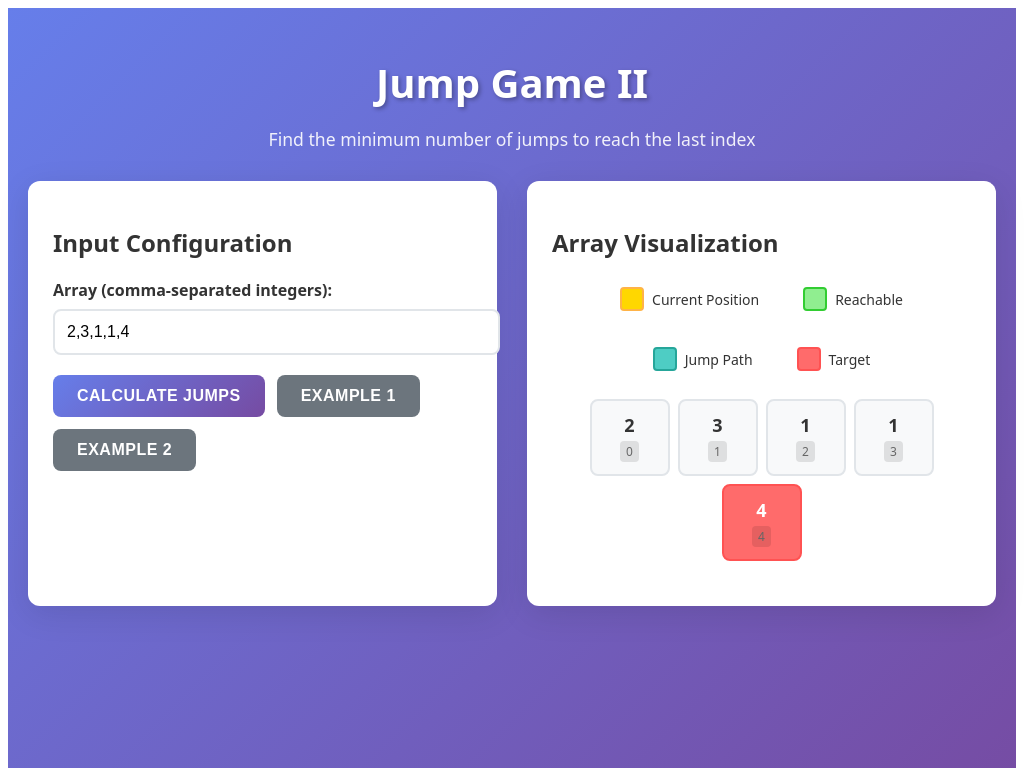
Test case: JumpGame Component › shows error for empty input
Clear the field with test id "array-input" at [276, 332], box [53,309,500,355]
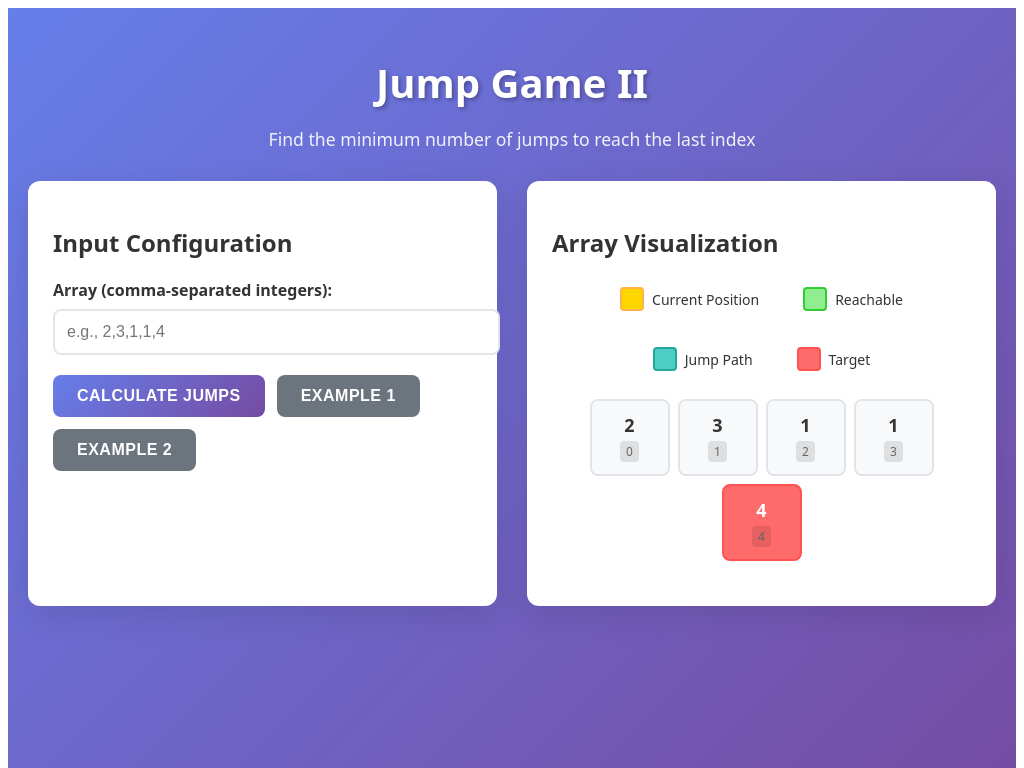
Click the button with test id "calculate-btn" at [159, 396], box [53,375,265,417]
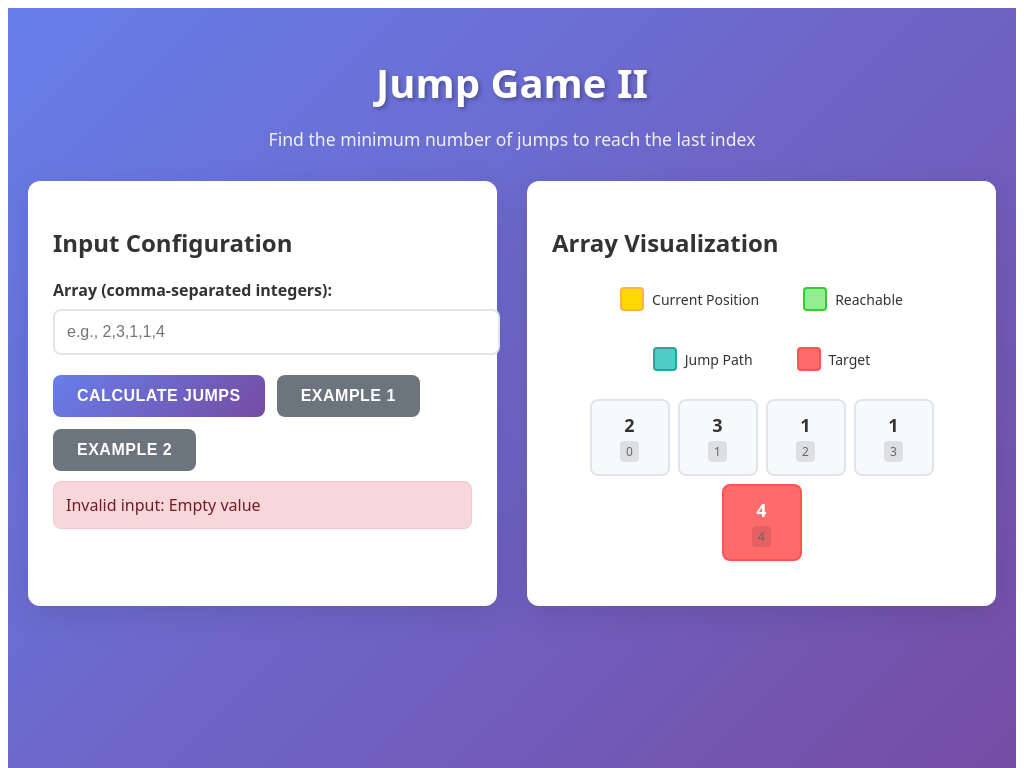
Result: the text "Invalid input: Empty value" is shown at [53,481,472,529]
